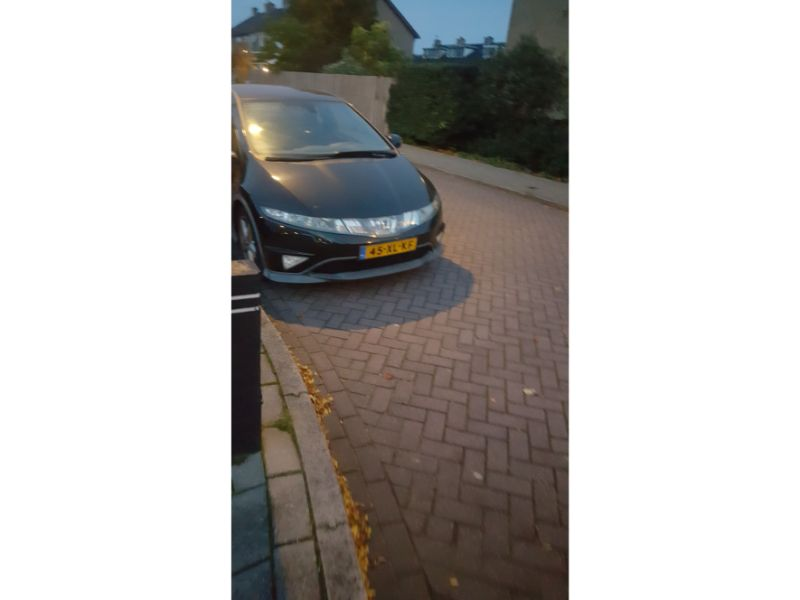kenteken: (355, 239, 421, 259)
